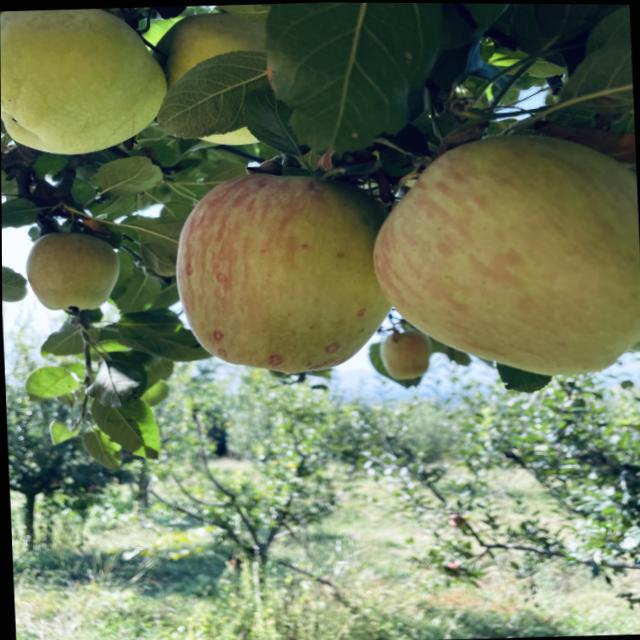Apple: (372, 134, 640, 374), (175, 173, 390, 372), (0, 8, 166, 154), (161, 12, 265, 86), (25, 232, 119, 309), (379, 328, 431, 379), (202, 127, 257, 144)
